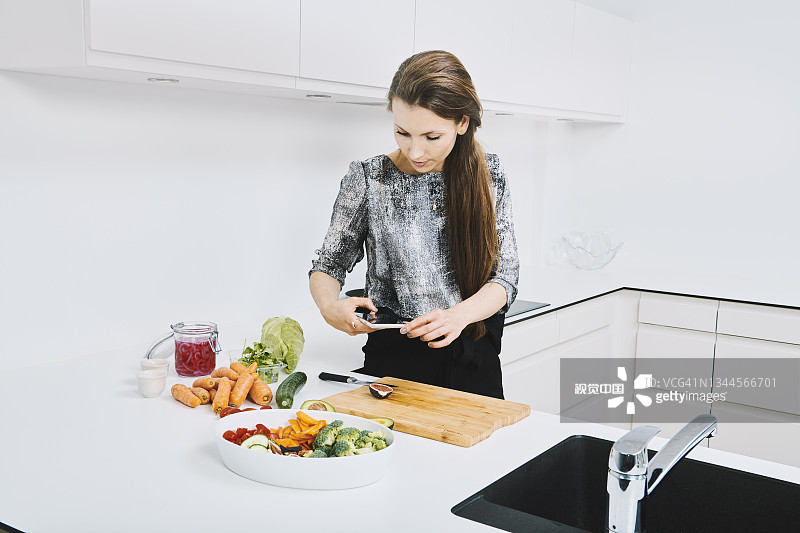taking photos: (314, 286, 470, 360)
